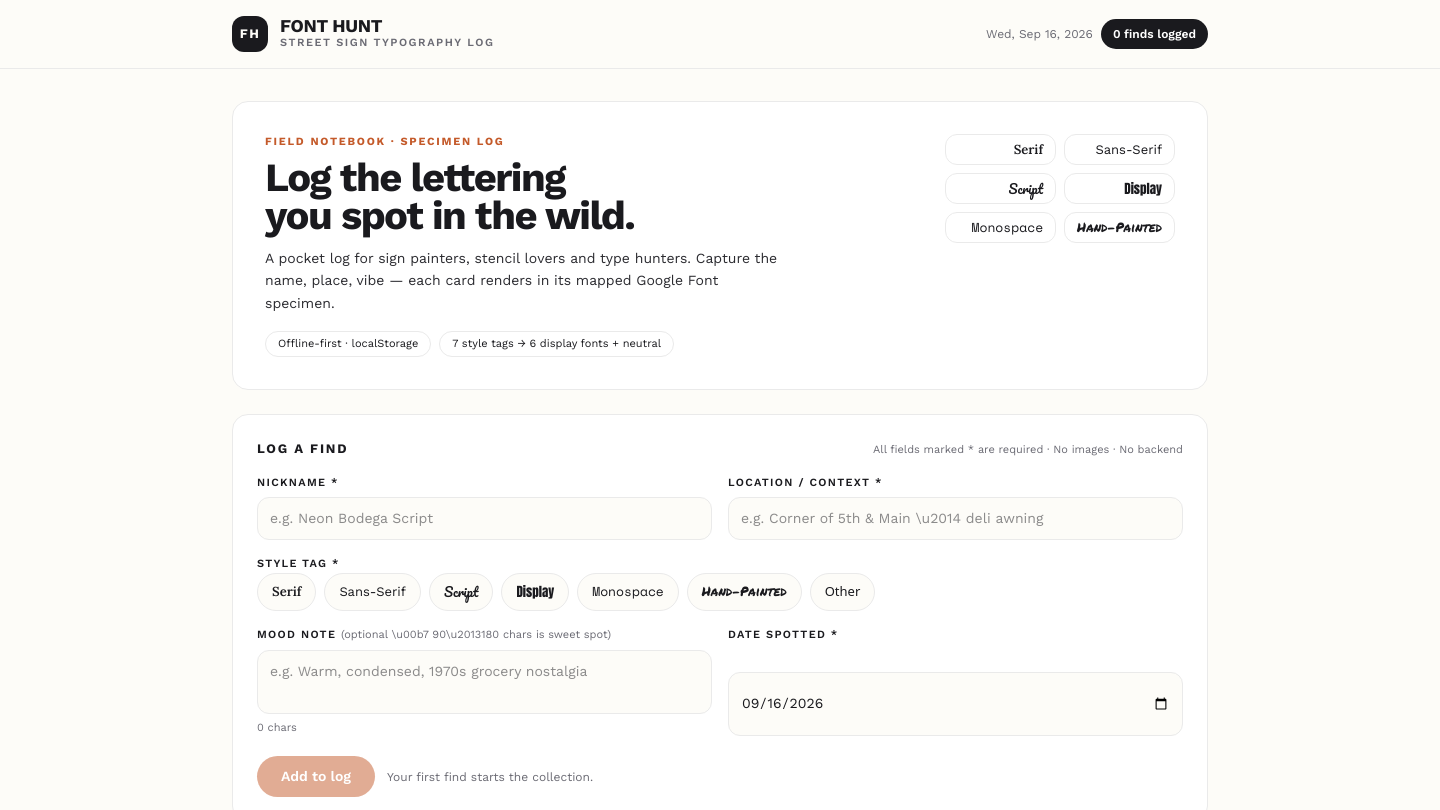
Test: Font Hunt › empty then add appears
The image size is (1440, 810).
Type "Neon Deli" into the field with placeholder "e.g. Neon Bodega Script".
click(484, 519); type("Neon Deli")  # box [257,497,712,540]
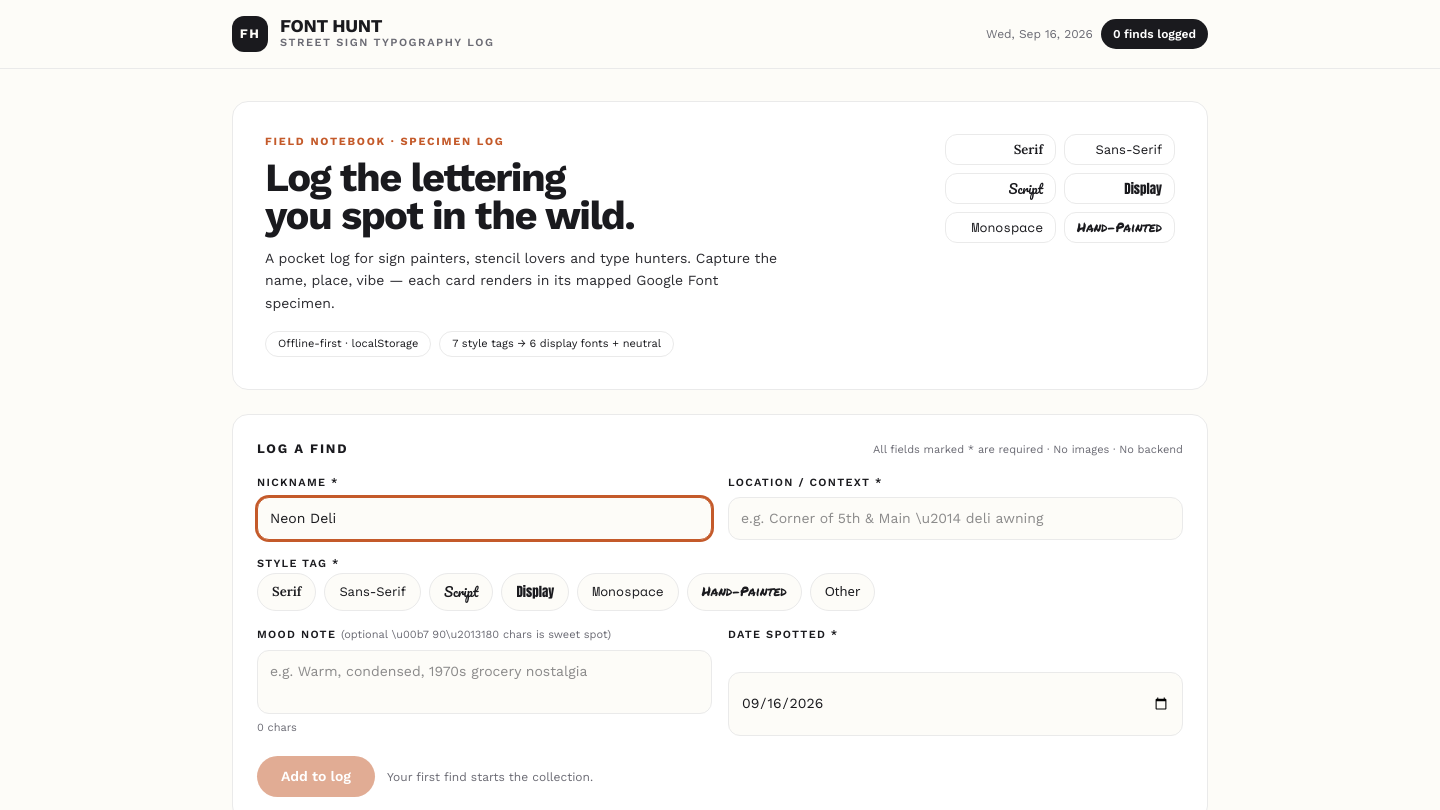
Type "Tokyo — Shinjuku 3-chome" into the field with placeholder "e.g. Corner of 5th & Main \\u2014 deli awning".
click(956, 519); type("Tokyo — Shinjuku 3-chome")  # box [728,497,1183,540]
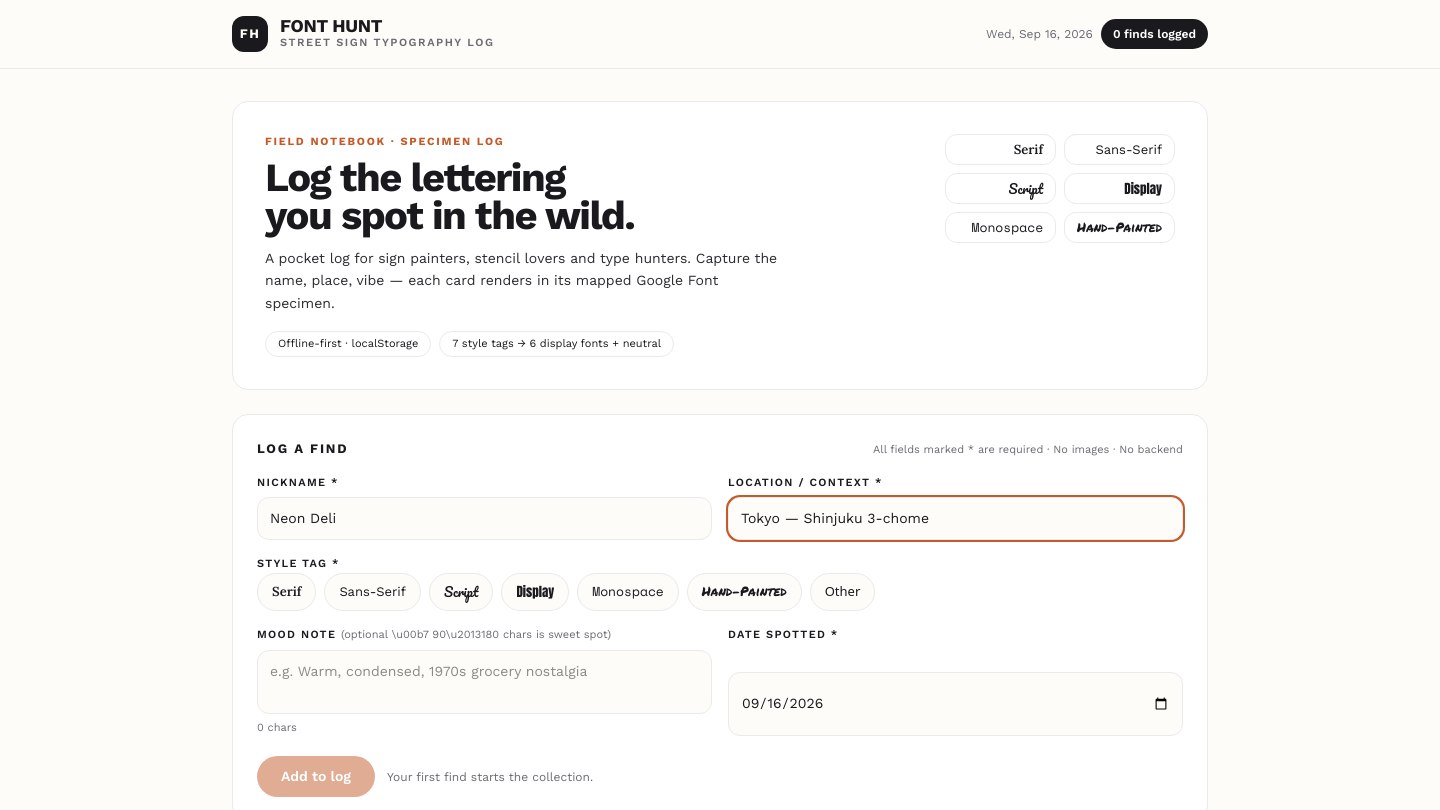
Click the radio button labelled "Display".
click(535, 592)  # box [501,573,569,611]
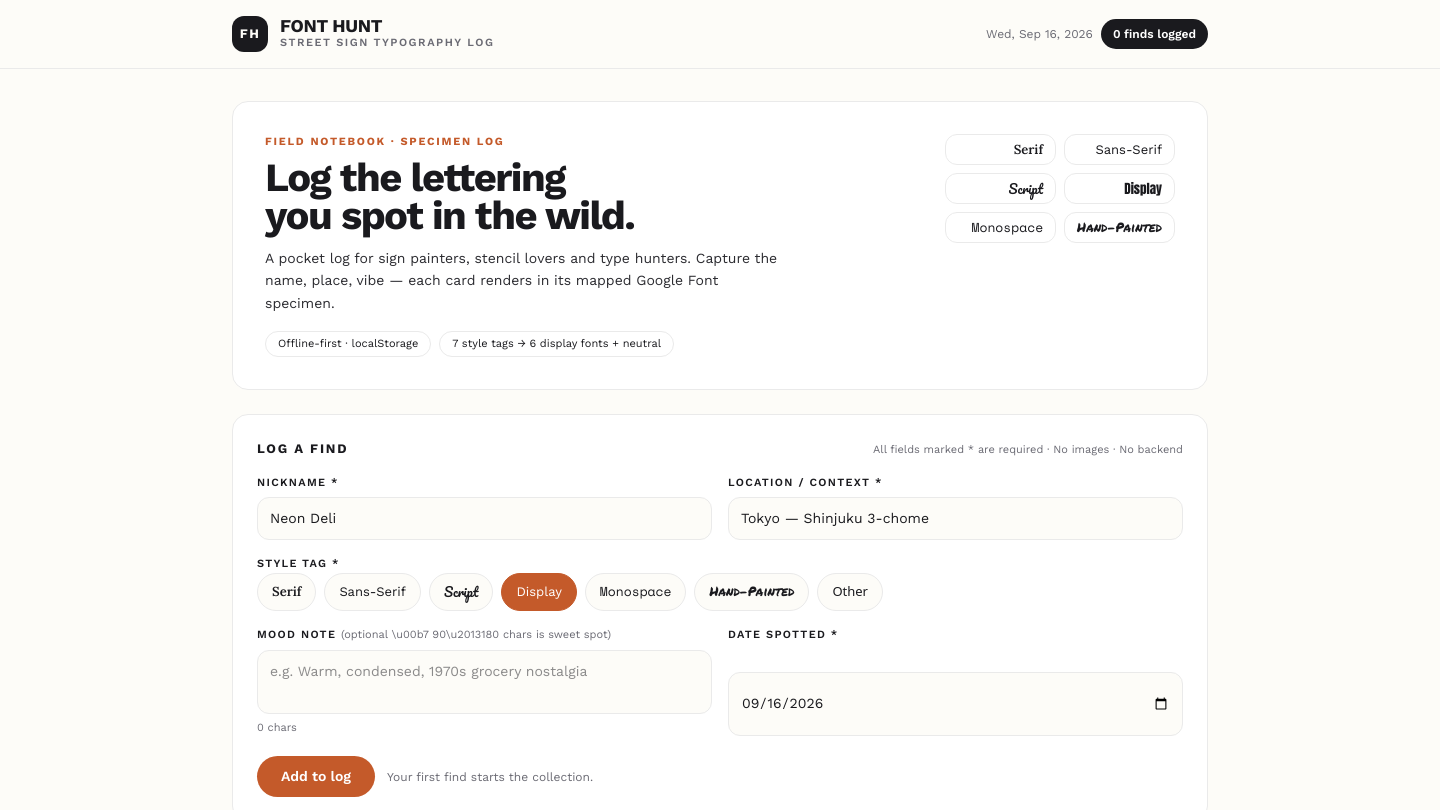
Type "neon and loud" into the text box with placeholder "e.g. Warm, condensed, 1970s grocery nostalgia".
click(484, 682); type("neon and loud")  # box [257,650,712,714]
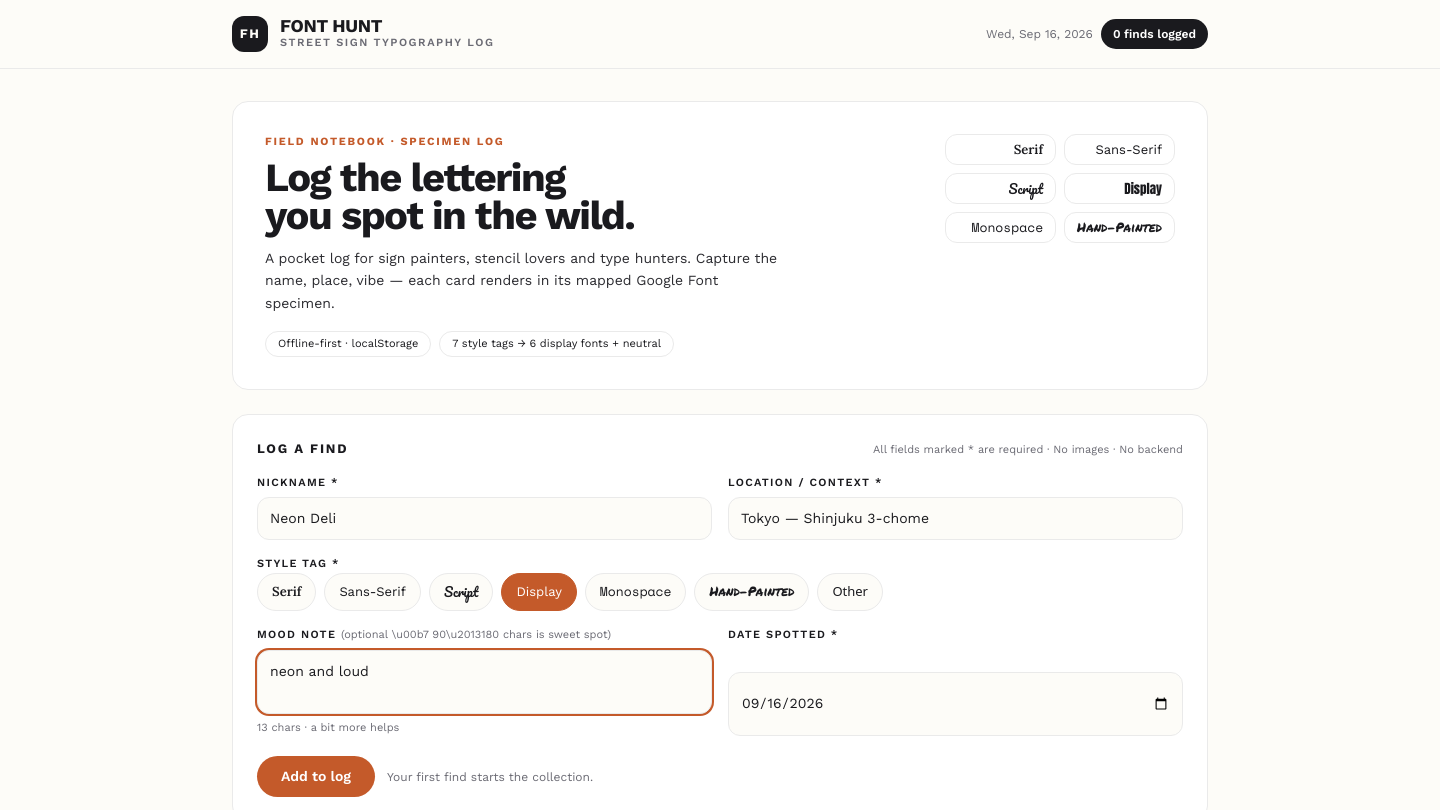
Click the button "Add to log".
click(316, 777)  # box [257,756,375,797]
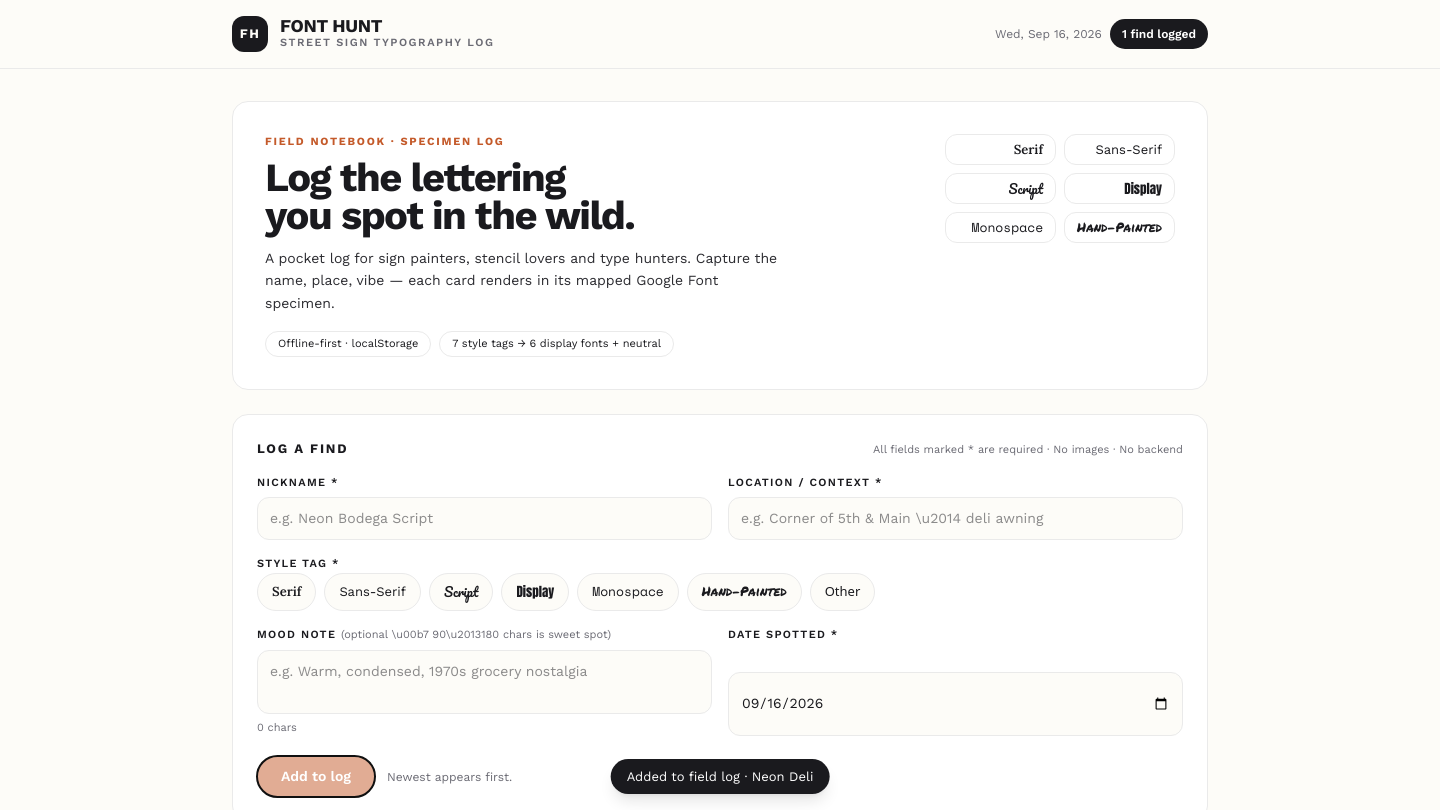
Result: the text "Added to field log · Neon Deli" is shown at [611,758,829,794]
